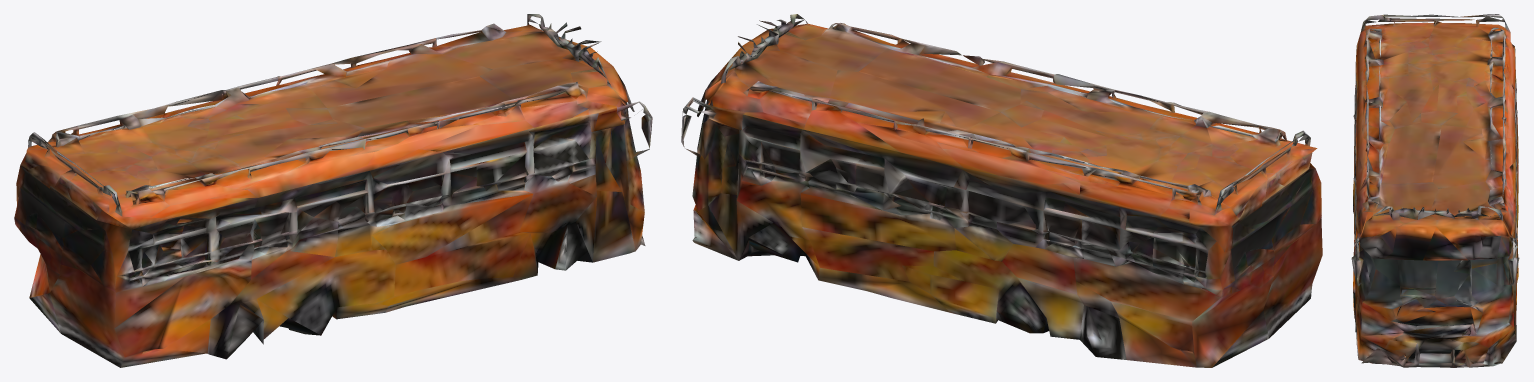
The model's file is ashok_2.glb.
3 views of the same model, side by side, from view 1: azimuth 30°, elevation 25°; view 2: azimuth 150°, elevation 25°; view 3: azimuth 270°, elevation 25° (orthographic). The views are drawn at different scales.
Parts seen in each view (by area): view 1: tripo_node_eadbd297-153b-4bcd-8d83-357e87a1ad5e; view 2: tripo_node_eadbd297-153b-4bcd-8d83-357e87a1ad5e; view 3: tripo_node_eadbd297-153b-4bcd-8d83-357e87a1ad5e.
Part boxes in pixels (x1,y1,x2,y2): tripo_node_eadbd297-153b-4bcd-8d83-357e87a1ad5e: (14,14,652,367); tripo_node_eadbd297-153b-4bcd-8d83-357e87a1ad5e: (681,14,1322,367); tripo_node_eadbd297-153b-4bcd-8d83-357e87a1ad5e: (1351,14,1519,367).
Size of the model in its own units: 0.991 by 0.3322 by 0.3263.
1 material, 1 textured.
